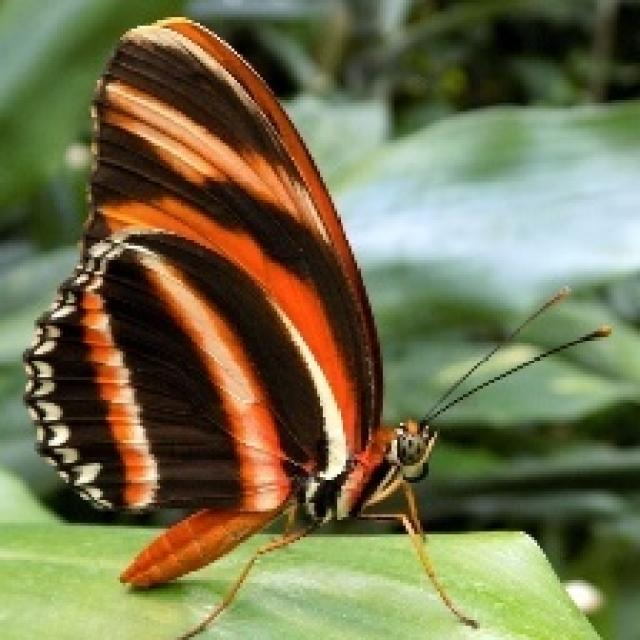butterfly: (20, 12, 611, 637)
